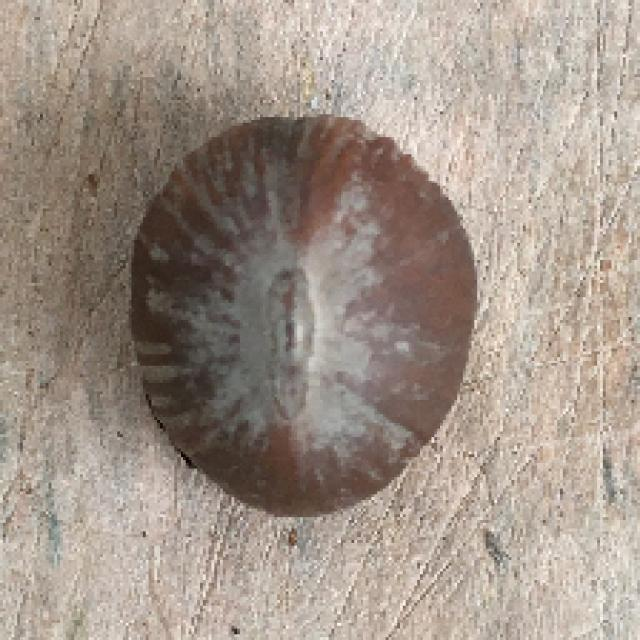damagedHazelnut: (119, 112, 474, 526)
